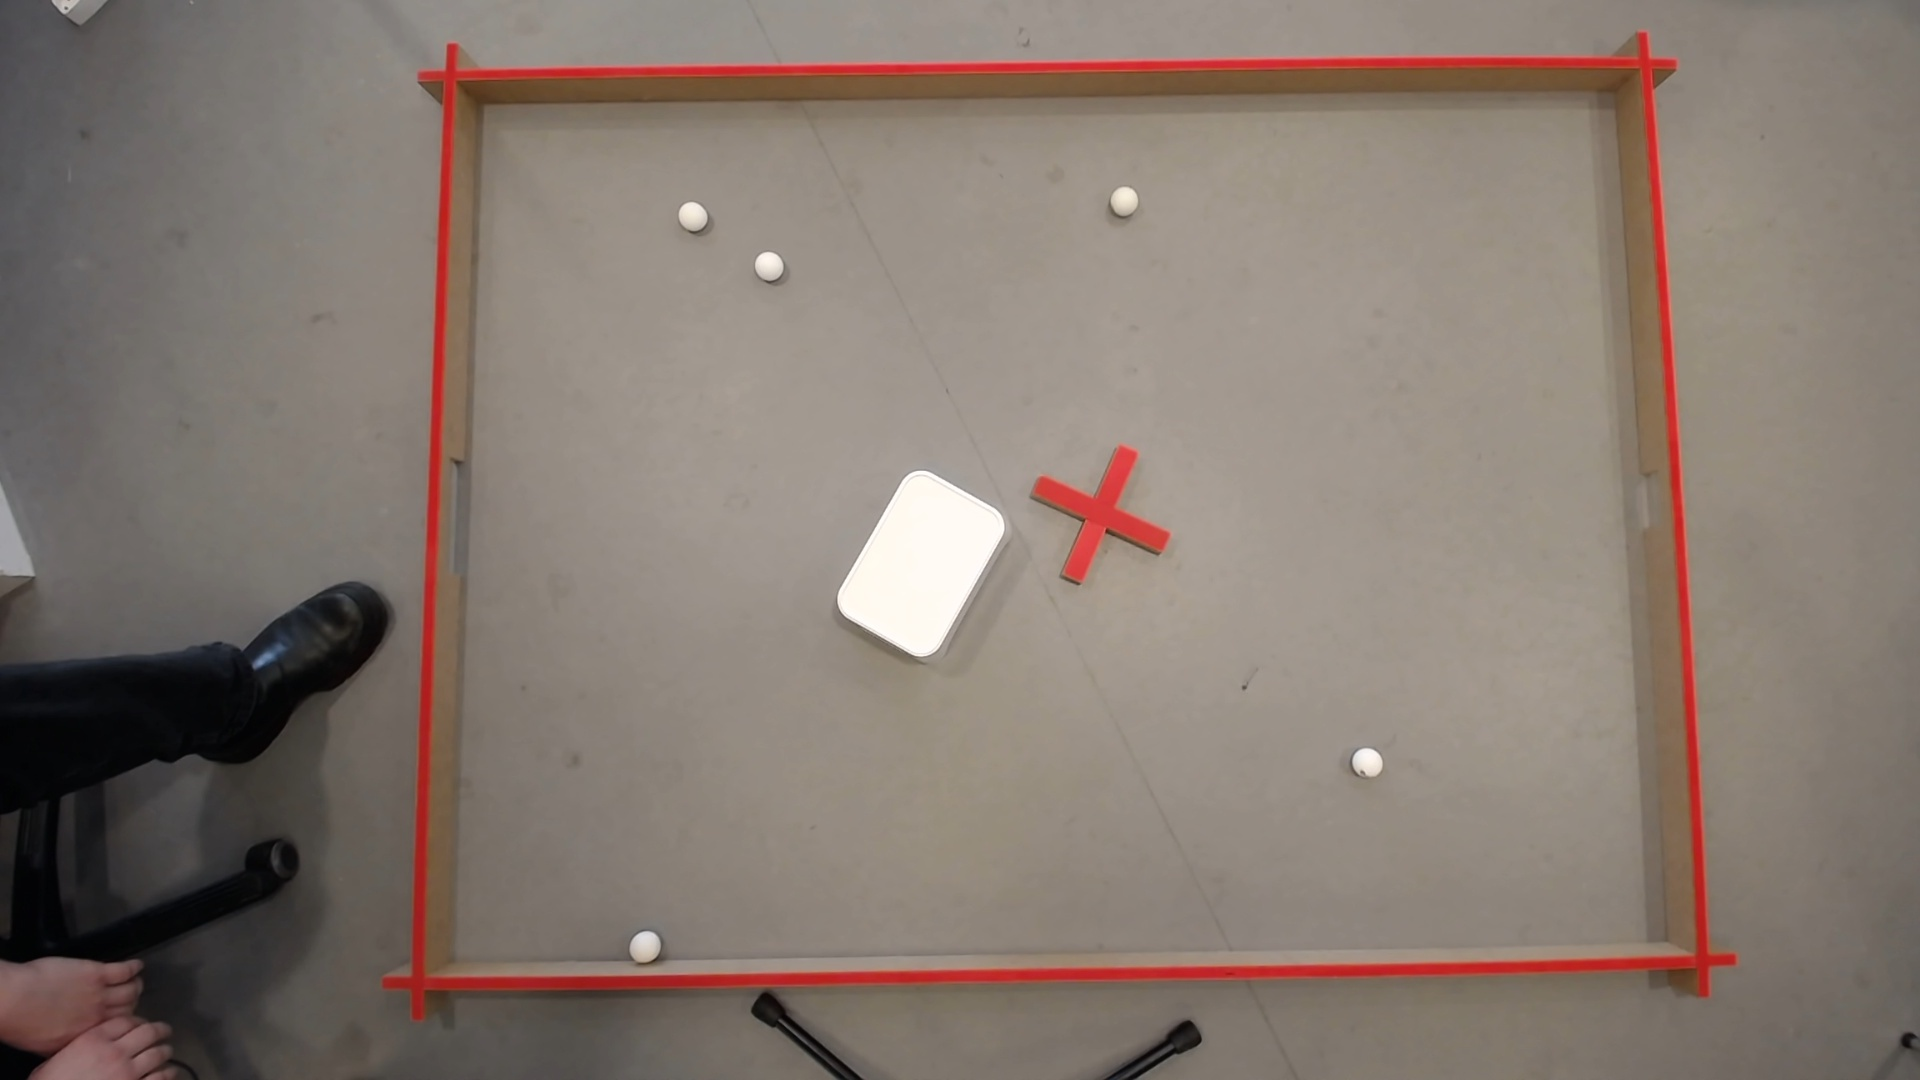balls: (828, 460, 1013, 665), (1348, 742, 1386, 778), (750, 247, 783, 278), (675, 198, 708, 228), (633, 931, 657, 955)
car: (1109, 181, 1139, 210)
